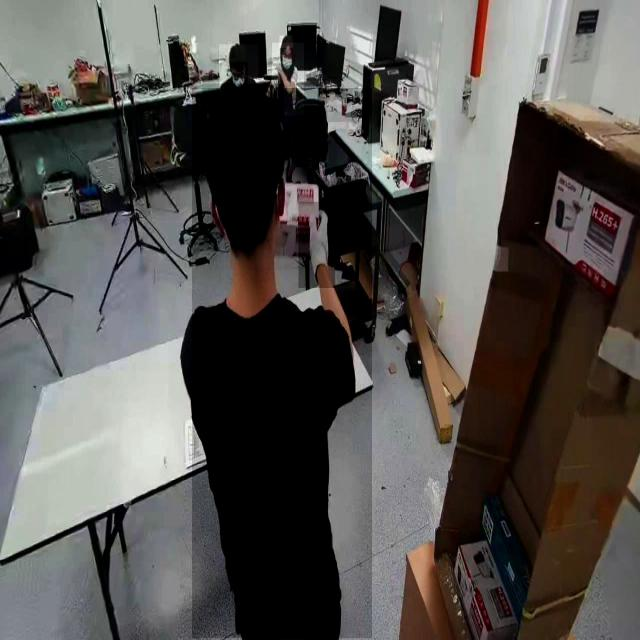face_mask: (227, 62, 249, 91), (282, 44, 292, 76)
hand_glove: (299, 202, 335, 288)
head_nohelmet: (202, 84, 284, 167), (228, 42, 246, 61), (280, 35, 294, 49)
person: (192, 88, 372, 639), (272, 42, 304, 116), (219, 44, 259, 90)
